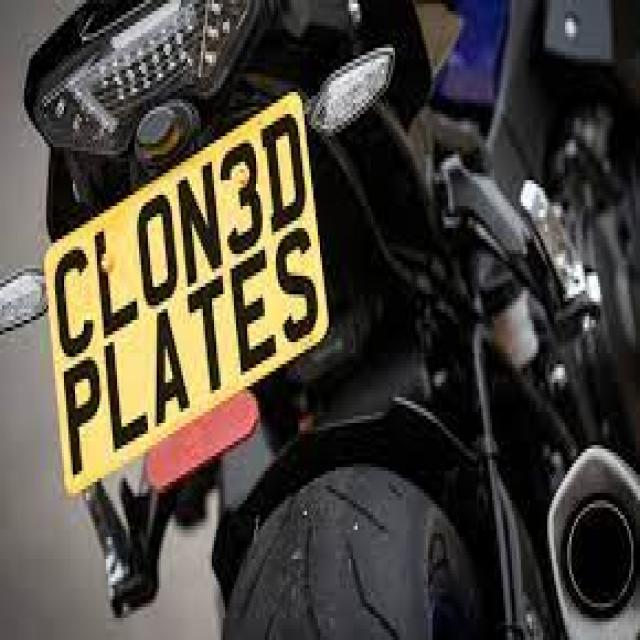license_plate: (40, 84, 331, 493)
